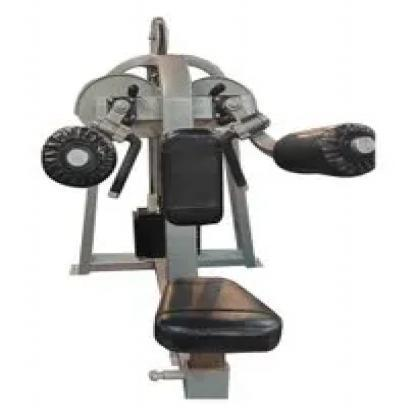lateral raises machine: (44, 17, 376, 400)
